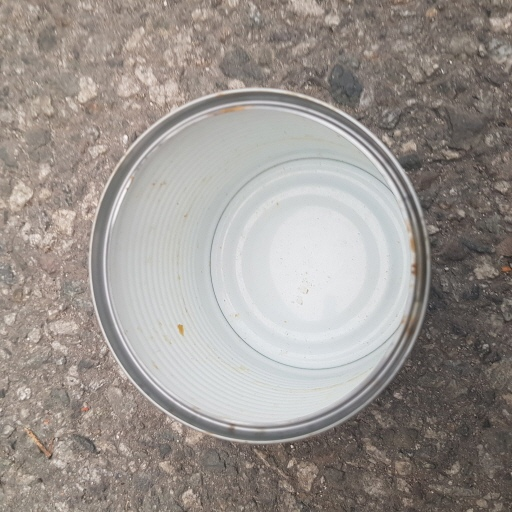Metal_1: (79, 86, 432, 445)
